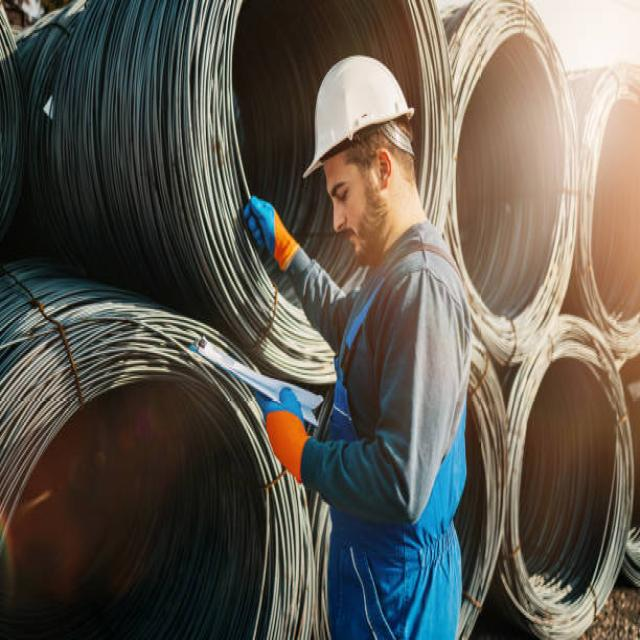Gloves: (253, 381, 311, 490), (238, 190, 303, 277)
helmet: (299, 52, 418, 180)
person: (239, 48, 472, 640)
